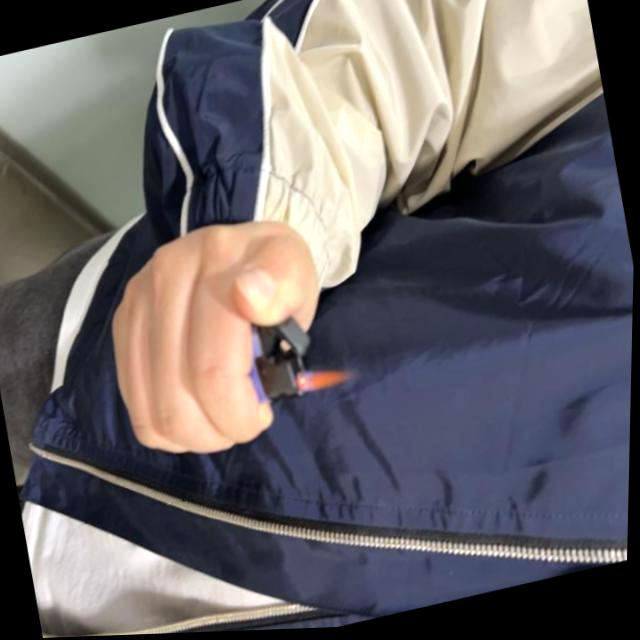fire: (296, 364, 360, 398)
